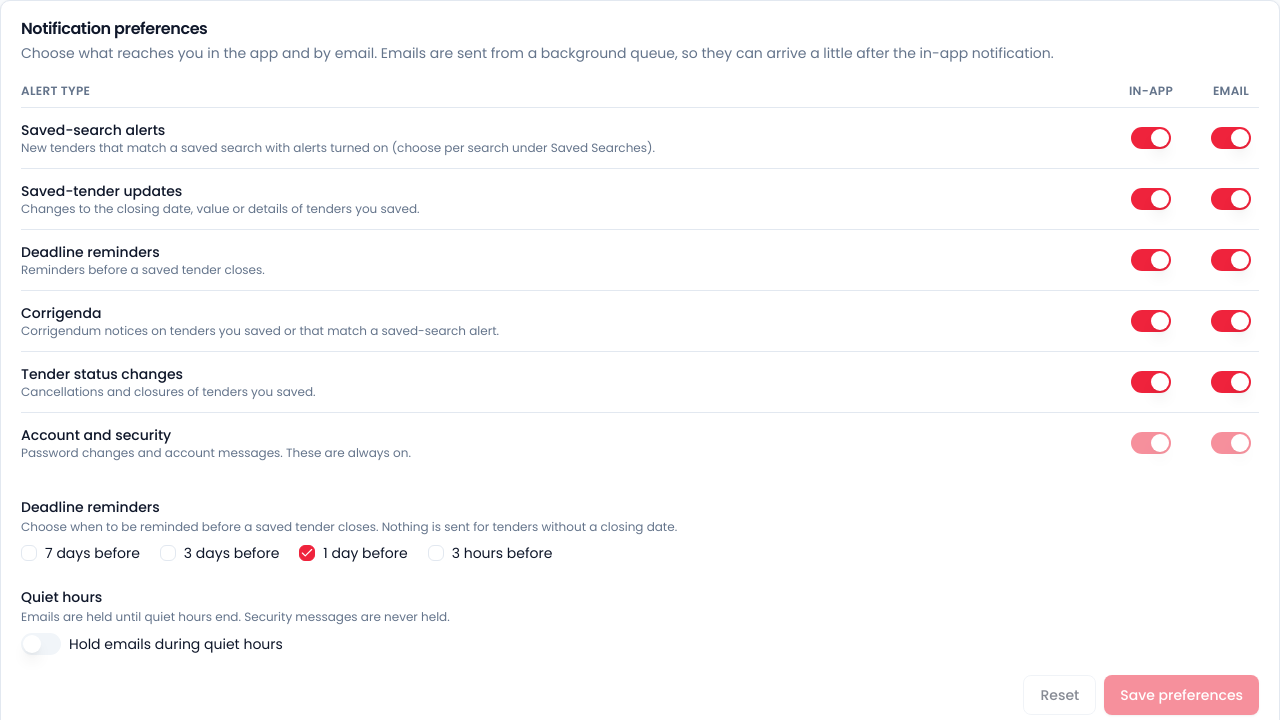
Test case: NotificationPreferencesCard › shows a server validation message and keeps the draft
Click the switch named "Corrigenda: in-app notifications": click(1151, 321) [1131, 310, 1171, 332]
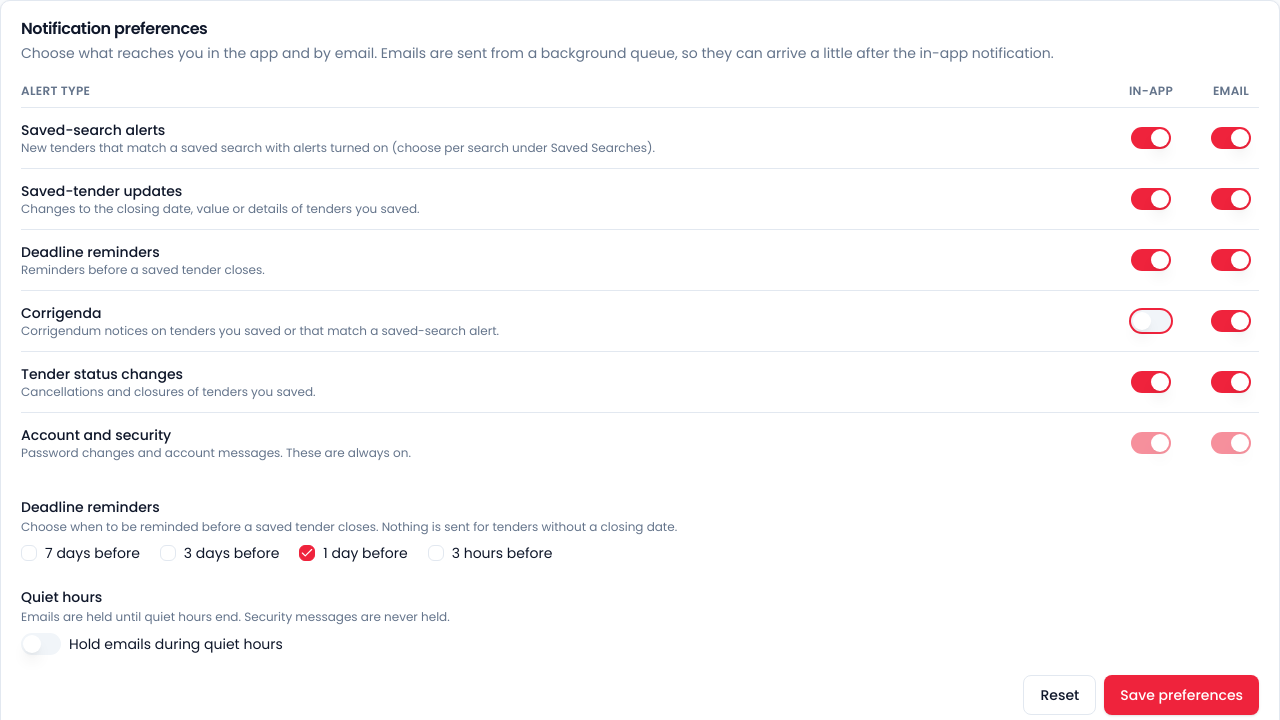
Click the button "Save preferences": click(1182, 695) [1104, 675, 1259, 715]
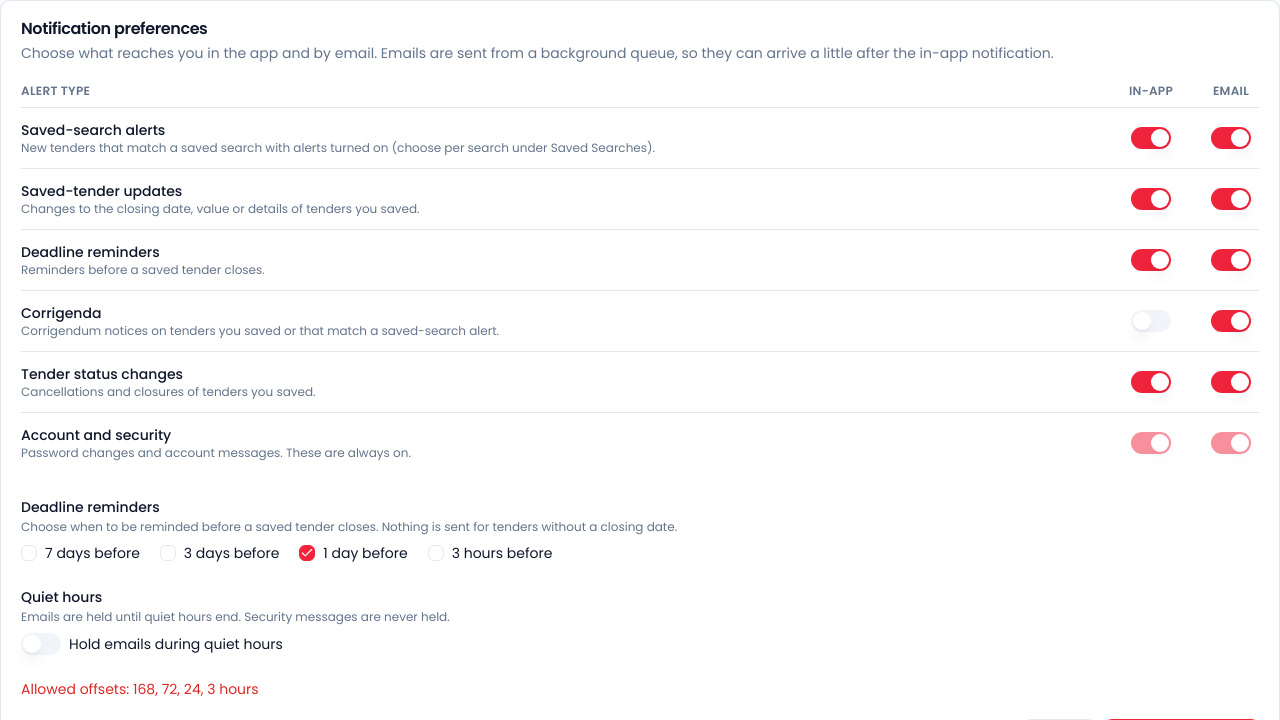
Check: the switch named "Corrigenda: in-app notifications" is not checked, box [1131, 310, 1171, 332]
Check: the message shows "Allowed offsets", box [21, 679, 259, 699]
